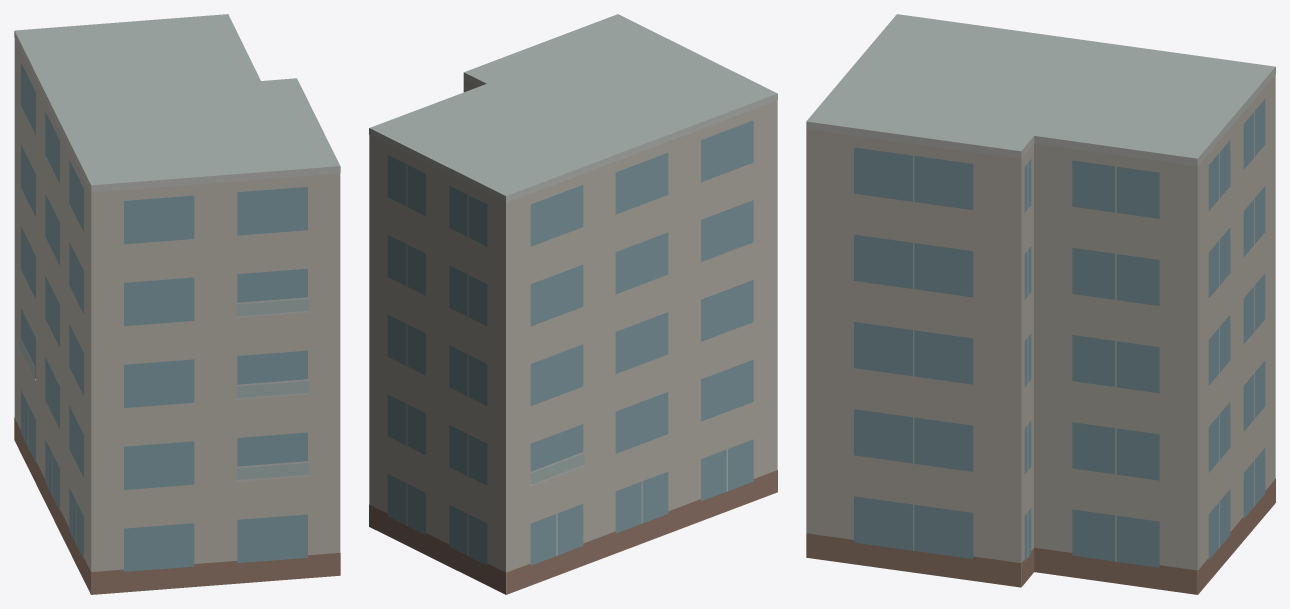
File: survey-upis-32657847.glb
3 views of the same model, side by side, from view 1: azimuth 30°, elevation 25°; view 2: azimuth 150°, elevation 25°; view 3: azimuth 270°, elevation 25° (orthographic). The views are drawn at different scales.
Parts seen in each view (by area): view 1: survey-upis-32657847.tmp; view 2: survey-upis-32657847.tmp; view 3: survey-upis-32657847.tmp.
Boxes of the visible parts, left/top/right/bottom form: survey-upis-32657847.tmp: left=14, top=14, right=340, bottom=594; survey-upis-32657847.tmp: left=369, top=14, right=777, bottom=594; survey-upis-32657847.tmp: left=806, top=14, right=1275, bottom=594.
Bounding box in the file's own units: 10.04 × 14.1 × 13.77.
